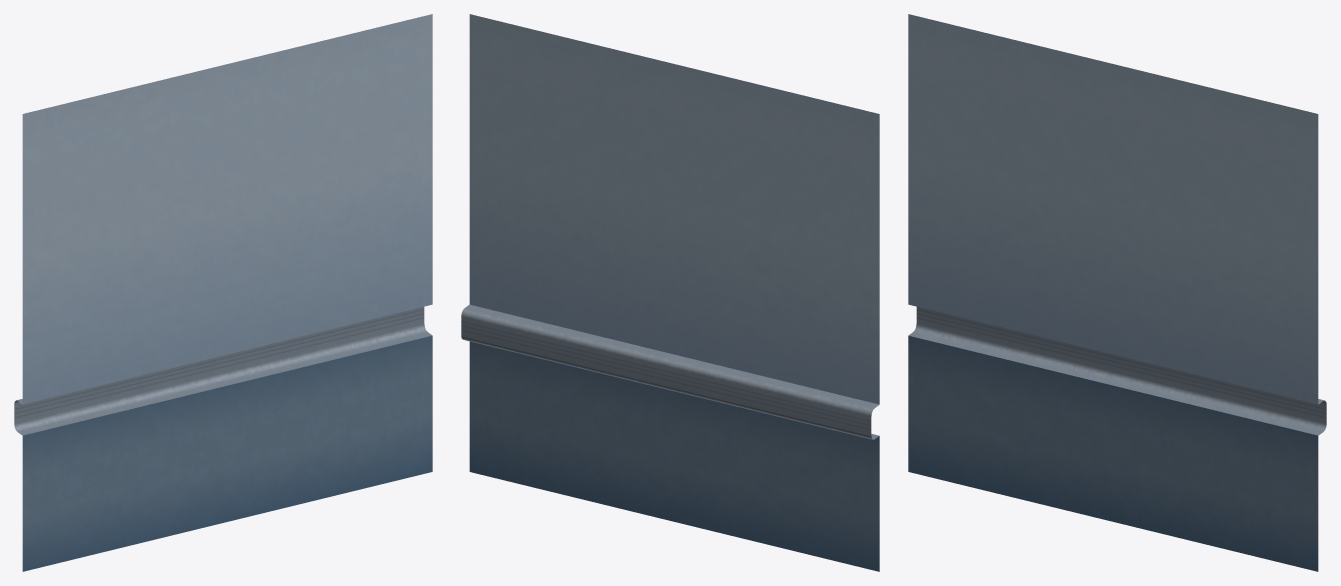
File: Lvl2_Wall.fbx
The picture shows the model from 3 angles, left to right: view 1: azimuth 30°, elevation 25°; view 2: azimuth 150°, elevation 25°; view 3: azimuth 330°, elevation 25°; orthographic projection.
Parts seen in each view (by area): view 1: Lvl2_Wall; view 2: Lvl2_Wall; view 3: Lvl2_Wall.
Boxes of the visible parts, <box> form: Lvl2_Wall: <box>14,14,432,571</box>; Lvl2_Wall: <box>461,14,879,571</box>; Lvl2_Wall: <box>908,14,1326,571</box>.
Bounding box in the file's own units: 375 × 400 × 13.01.
Materials: 1 (1 with a texture image).
